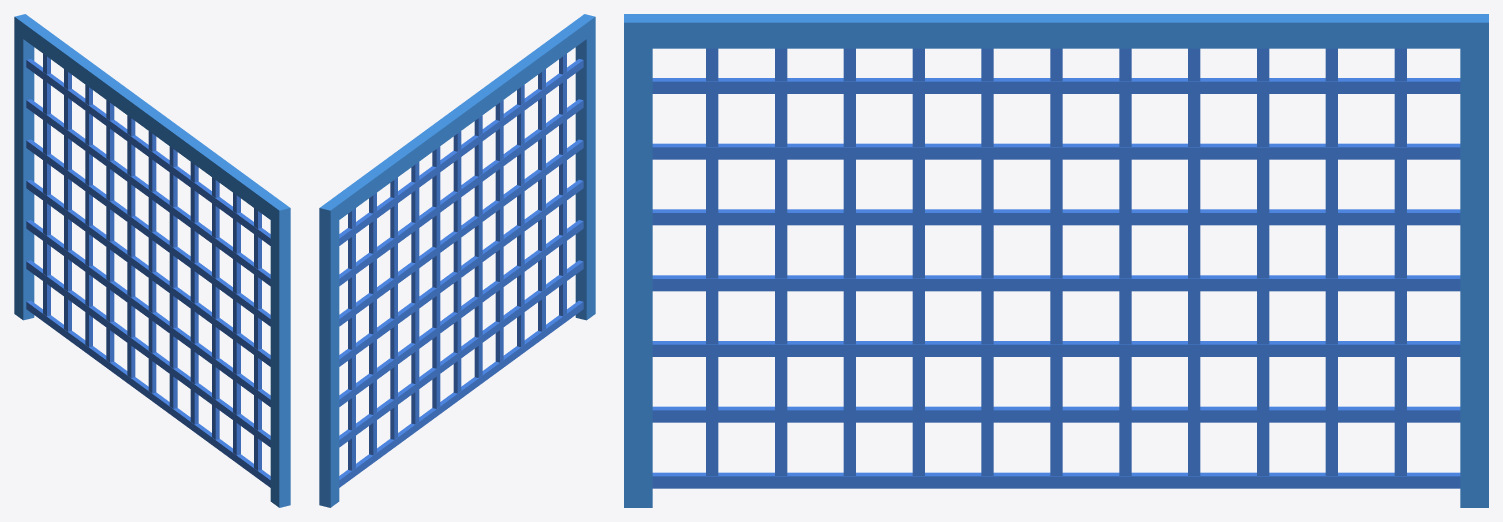
File: Fence_1_G_3.fbx
The picture shows the model from 3 angles, left to right: view 1: azimuth 30°, elevation 25°; view 2: azimuth 150°, elevation 25°; view 3: azimuth 270°, elevation 25°; orthographic projection. The views are drawn at different scales.
Parts seen in each view (by area): view 1: Fence_1_G_3; view 2: Fence_1_G_3; view 3: Fence_1_G_3.
Part boxes in pixels (box(x1,y1,x2,y2)): Fence_1_G_3: box(14, 14, 290, 507); Fence_1_G_3: box(319, 14, 595, 507); Fence_1_G_3: box(624, 14, 1488, 507).
Bounding box in the file's own units: 9.6 × 248 × 400.
